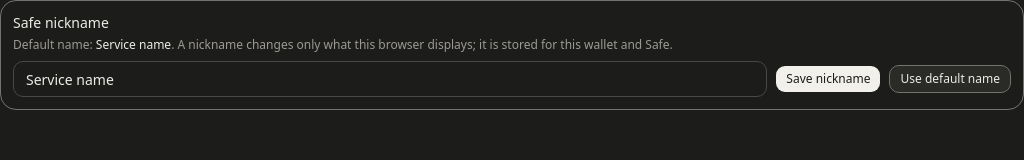
Test case: SafeNicknameEditor › keeps an explicit nickname equal to the default until the user removes it
The image size is (1024, 160).
Check: the button "Use default name" is shown, box [890,65,1011,93]
Check: the field labelled "Safe nickname" holds "Service name", box [13,61,767,97]
What coordinates should you click on to do the following:
click the button "Save nickname"
I would click on:
 (828, 79)
Its box is [775,65,881,93].
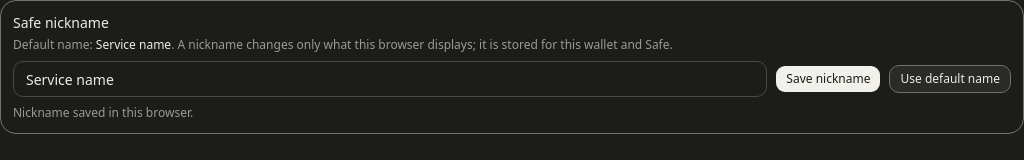
Check: the field labelled "Safe nickname" holds "Service name", box [13,61,767,97]
What coordinates should you click on to do the following:
click the button "Use default name"
I would click on:
 (950, 79)
Its box is [890,65,1011,93].
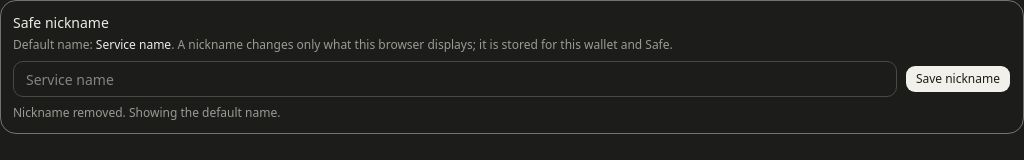
Check: the button "Use default name" is gone
